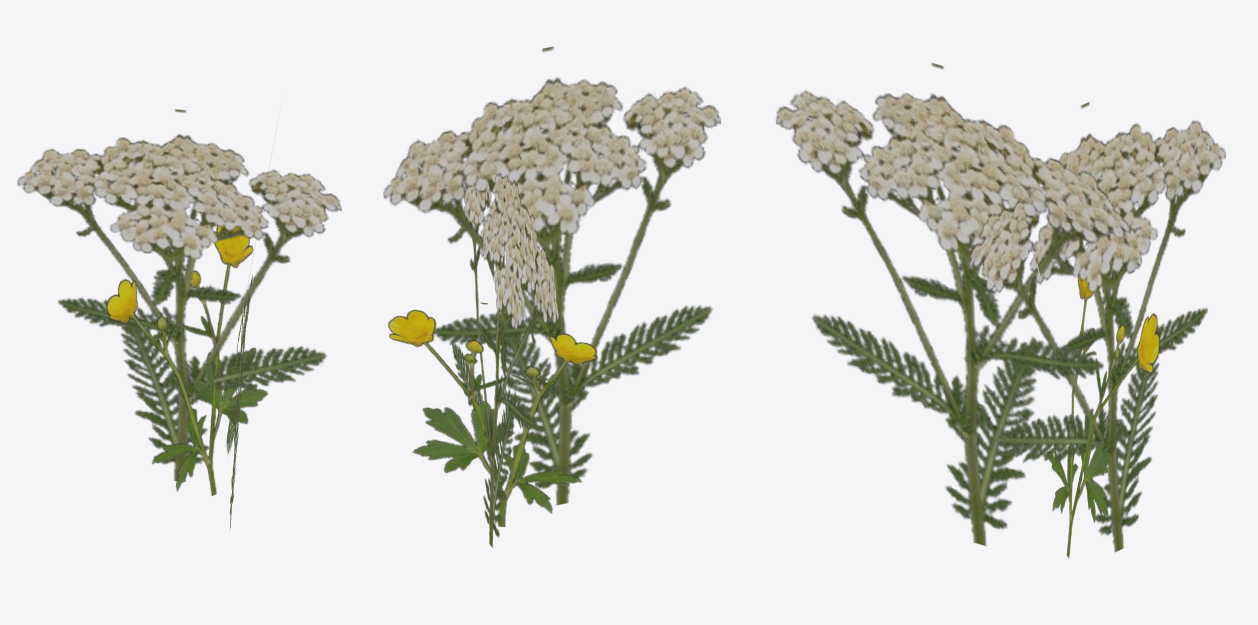
Rendered from flowers_c.glb.
3 views of the same model, side by side, from view 1: azimuth 30°, elevation 25°; view 2: azimuth 150°, elevation 25°; view 3: azimuth 270°, elevation 25° (orthographic). The views are drawn at different scales.
Visible parts, largest first — view 1: flowers_c; view 2: flowers_c; view 3: flowers_c.
Boxes of the visible parts, left/top/right/bottom form: flowers_c: left=17, top=109, right=341, bottom=529; flowers_c: left=383, top=46, right=721, bottom=547; flowers_c: left=775, top=63, right=1225, bottom=558.
Size of the model in its own units: 0.3134 by 0.5478 by 0.4776.
1 material, 1 textured.
